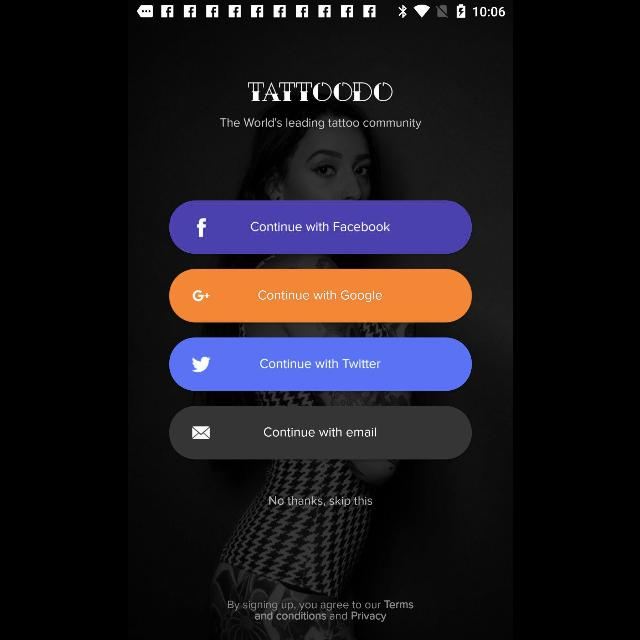backgroundimage: (128, 18, 512, 640)
image: (246, 82, 392, 101)
text: (228, 600, 412, 622), (220, 118, 420, 130), (268, 497, 372, 508)
textbutton: (168, 406, 472, 459), (169, 200, 471, 253), (168, 338, 472, 390), (169, 270, 471, 322)
uppertaskbar: (128, 0, 512, 18)
